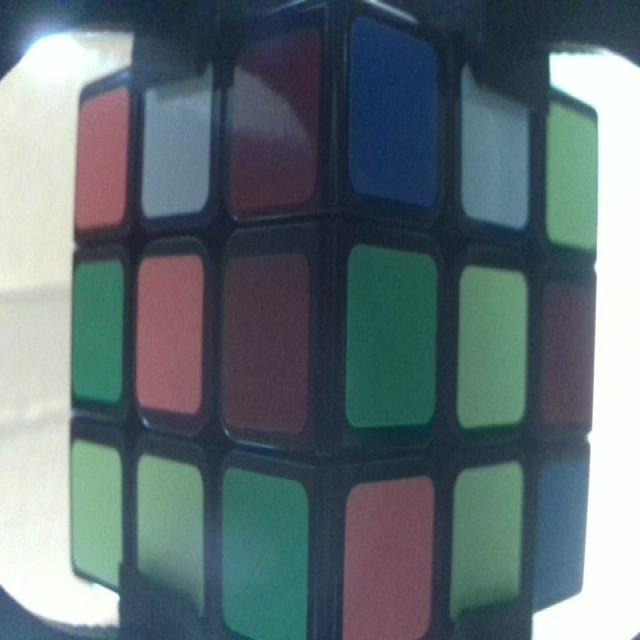b: (351, 10, 441, 208), (534, 465, 592, 607)
g: (351, 250, 434, 432), (223, 473, 309, 640), (69, 261, 127, 402)
o: (351, 484, 432, 640), (136, 255, 204, 421), (75, 90, 128, 228)
r: (229, 32, 314, 208), (226, 259, 307, 432), (544, 278, 596, 427)
w: (458, 48, 532, 224), (140, 51, 212, 212)
y: (455, 471, 526, 629), (139, 463, 205, 628), (463, 268, 528, 426), (549, 96, 601, 250), (72, 446, 120, 584)
